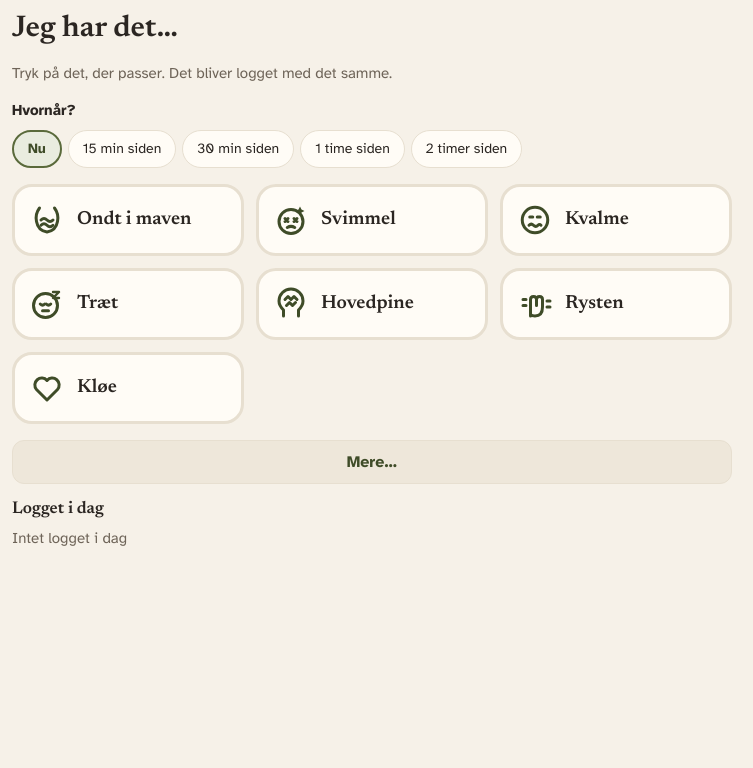
Test: Jeg har det… (the picker, plan §5) › refuses a time that has not come yet, and says so
Step 1. Click the button "Mere…" → (372, 462), box [12, 440, 732, 484]
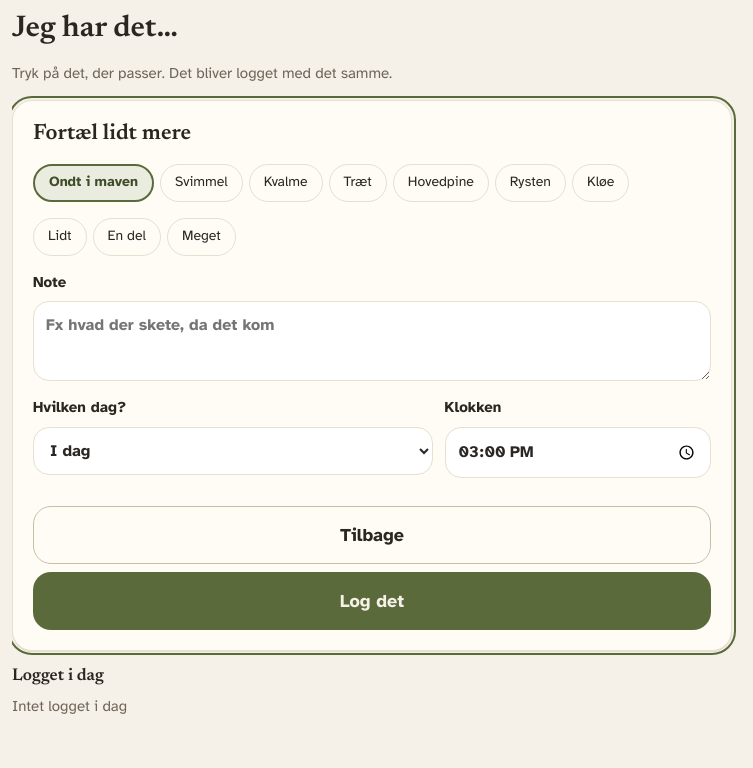
Step 2. Replace the text in the time field labelled "Klokken" with "15:30" → (578, 453), box [445, 427, 711, 478]
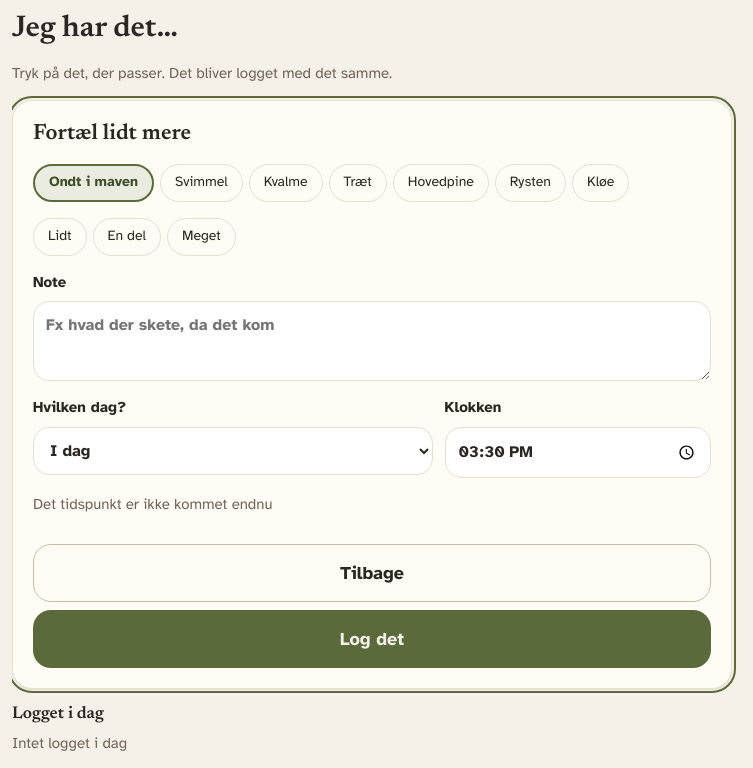
Expected: the text with test id "symptom-ahead" reads "Det tidspunkt er ikke kommet endnu", [33, 495, 272, 513]
Expected: the button "Log det" is disabled, [33, 610, 711, 668]
Step 3. Select "I går" in the dropdown labelled "Hvilken dag?" → (233, 451), box [33, 427, 433, 475]
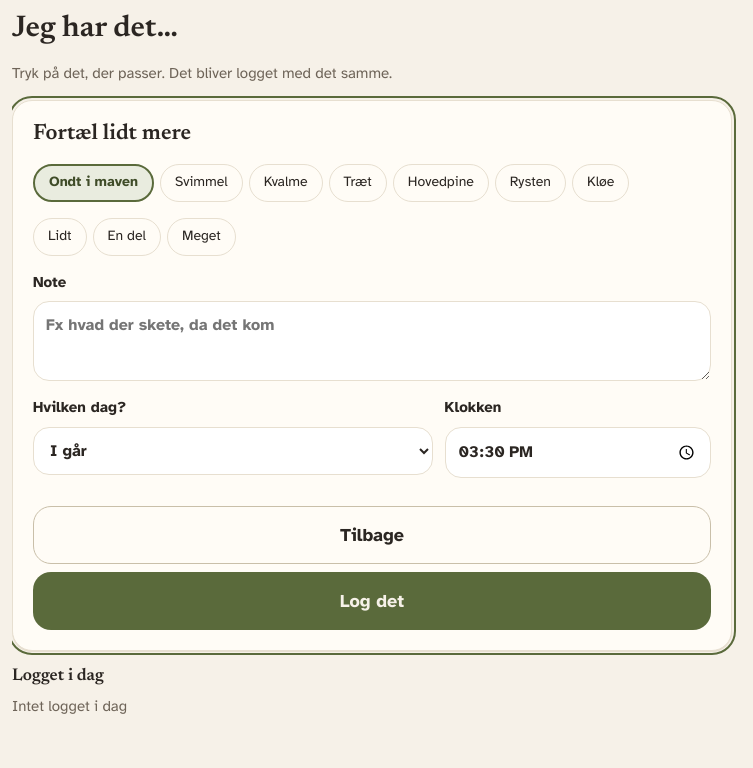
Expected: the text with test id "symptom-ahead" is gone
Expected: the button "Log det" is enabled, [33, 572, 711, 630]
